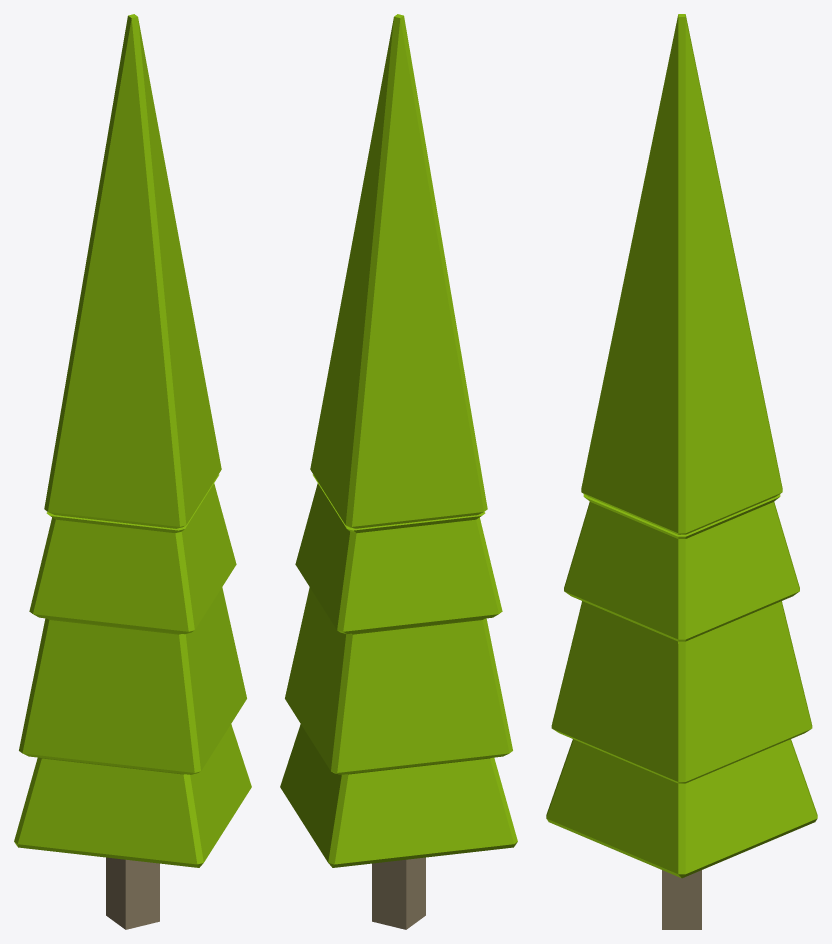
Rendered from pine_8_bevel.fbx.
The picture shows the model from 3 angles, left to right: view 1: azimuth 30°, elevation 25°; view 2: azimuth 150°, elevation 25°; view 3: azimuth 270°, elevation 25°; orthographic projection.
Parts seen in each view (by area): view 1: pine_8_bevel; view 2: pine_8_bevel; view 3: pine_8_bevel.
Part boxes in pixels (x1,y1,x2,y2): pine_8_bevel: (14,14,251,929); pine_8_bevel: (280,14,517,929); pine_8_bevel: (546,14,817,929).
Size of the model in its own units: 82.38 by 303 by 82.38.
